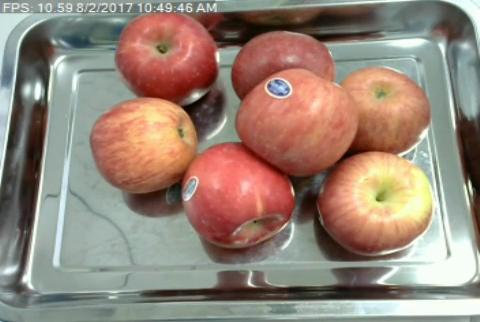apple: (235, 69, 358, 172), (316, 151, 433, 256), (181, 143, 295, 247), (89, 97, 197, 191), (114, 13, 218, 105), (352, 65, 430, 152), (233, 32, 334, 83)
